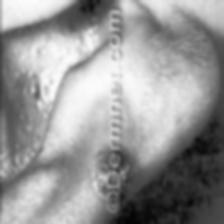Toxin: (90, 148, 106, 204), (121, 151, 130, 194)
